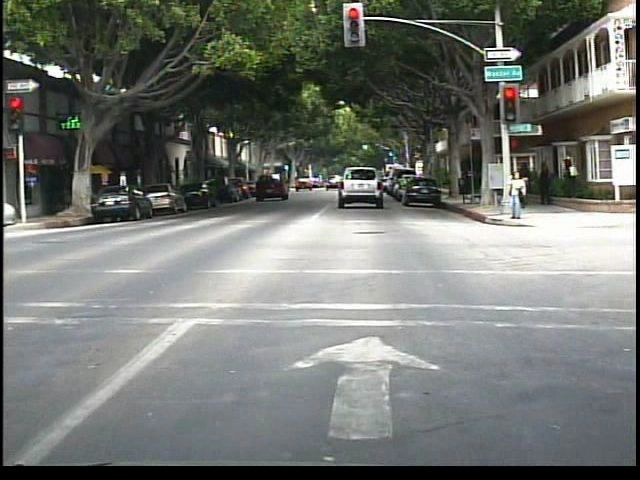person: (502, 168, 528, 222), (533, 157, 554, 211), (558, 149, 580, 199), (516, 156, 534, 205)
